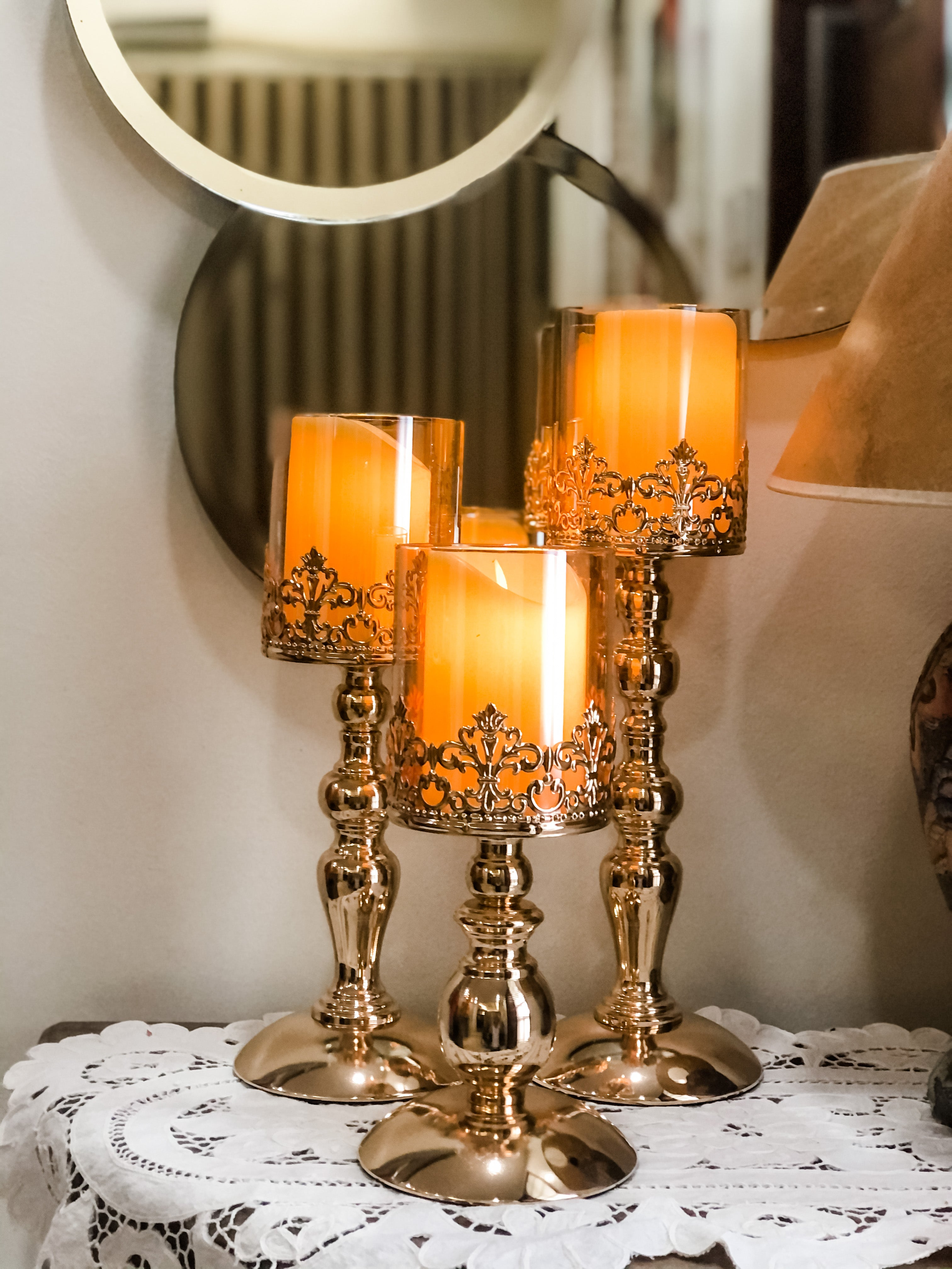Open-Flame-Hazard: (224, 261, 791, 1232)
